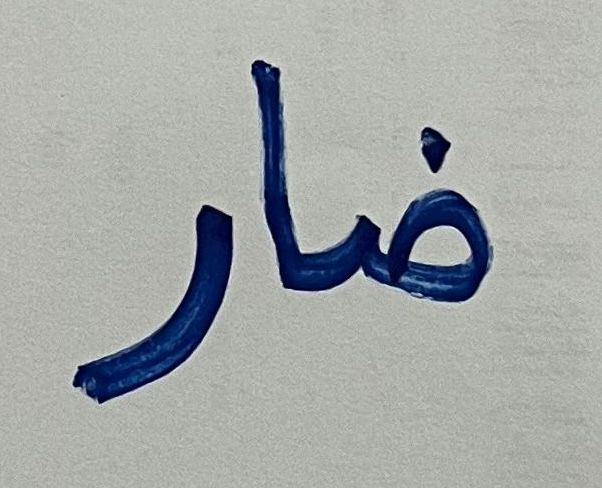alef: (240, 24, 323, 327)
dad: (329, 92, 534, 348)
reh: (45, 144, 236, 415)
